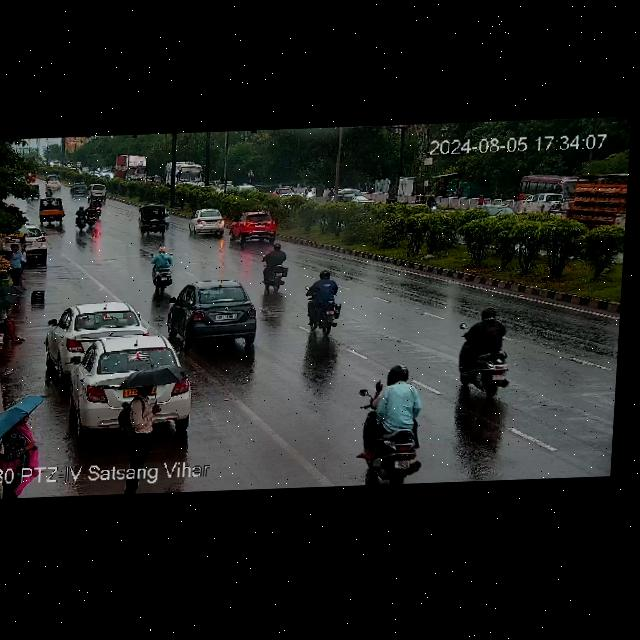bus: (518, 171, 573, 210), (165, 163, 207, 190)
car: (52, 336, 191, 440), (165, 281, 258, 348), (46, 303, 150, 362), (232, 212, 284, 244), (137, 204, 174, 235), (187, 210, 228, 236), (40, 196, 69, 223), (87, 183, 110, 198)
motorcycle: (359, 365, 426, 470), (453, 315, 519, 397), (305, 271, 350, 333), (148, 249, 181, 290), (261, 244, 288, 287), (71, 207, 95, 230), (84, 201, 108, 219), (423, 195, 444, 212), (302, 186, 318, 204)
person: (119, 379, 167, 459), (0, 414, 37, 471), (0, 307, 25, 345), (8, 243, 26, 284)
truck: (570, 178, 628, 230)
